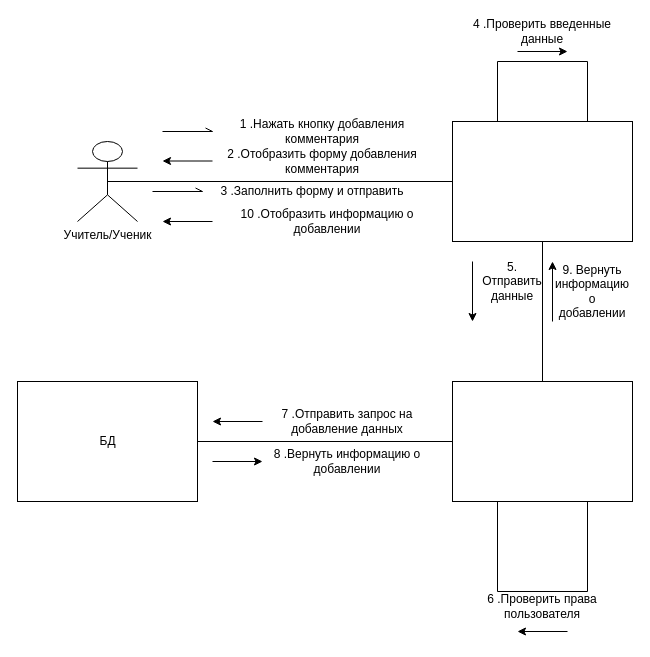
The diagram is 650 pixels wide and 657 high, and some of its shapes have lost their labels. Each missing label, with the box of its shape:
Клиент: (452, 120, 632, 242)
Сервер: (452, 380, 632, 502)
